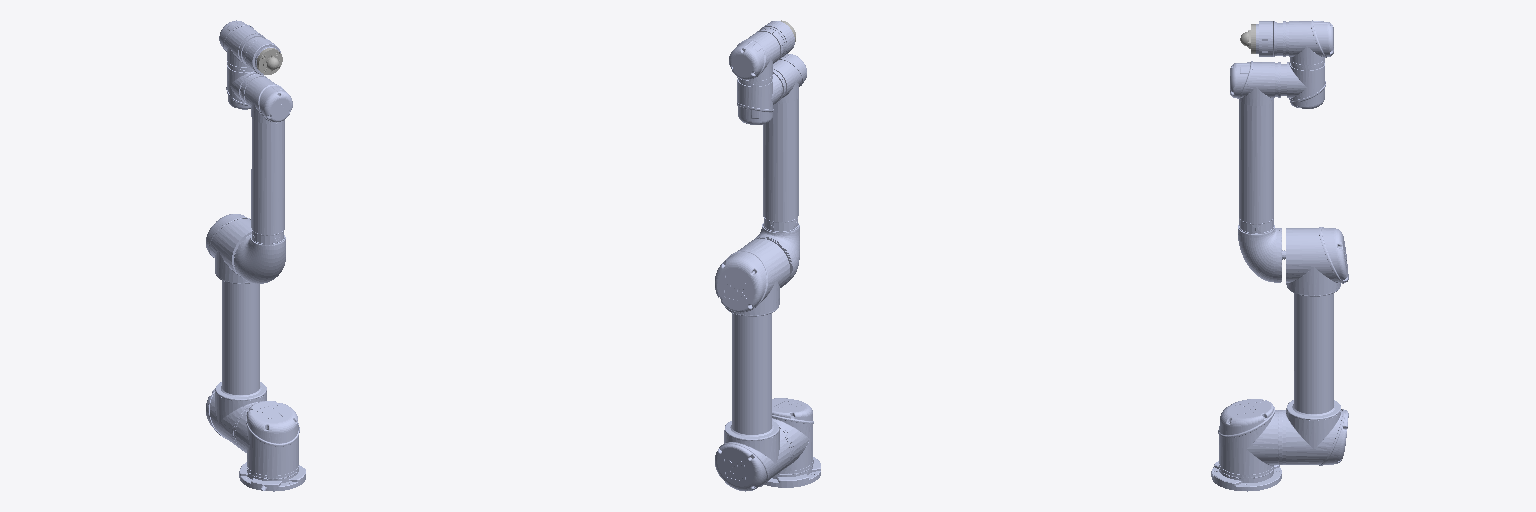
The robot description file, URDF, robot "UR5_simplified":
<?xml version="1.0" encoding="utf-8"?>
<!-- This URDF was automatically created by SolidWorks to URDF Exporter! Originally created by [author] ([email redacted]) 
     Commit Version: 1.6.0-4-g7f85cfe  Build Version: 1.6.7995.38578
     For more information, please see http://wiki.ros.org/sw_urdf_exporter -->
<robot
  name="UR5_simplified">
  <link
    name="base_link">
    <inertial>
      <origin
        xyz="-0.000420030422995675 0.0163366044723407 0.000420045041829593"
        rpy="0 0 0" />
      <mass
        value="0.44130548858899" />
      <inertia
        ixx="0.000536733963070829"
        ixy="1.52397192563187E-06"
        ixz="-1.75291479004569E-05"
        iyy="0.000965019557497327"
        iyz="-1.52398754952585E-06"
        izz="0.000536733421587594" />
    </inertial>
    <visual>
      <origin
        xyz="0 0 0"
        rpy="0 0 0" />
      <geometry>
        <mesh
          filename="package://UR5_simplified/meshes/base_link.STL" />
      </geometry>
      <material
        name="">
        <color
          rgba="0.792156862745098 0.819607843137255 0.933333333333333 1" />
      </material>
    </visual>
    <collision>
      <origin
        xyz="0 0 0"
        rpy="0 0 0" />
      <geometry>
        <mesh
          filename="package://UR5_simplified/meshes/base_link.STL" />
      </geometry>
    </collision>
  </link>
  <link
    name="j1">
    <inertial>
      <origin
        xyz="-0.058879461765672 0.0151336322048917 -5.24202044640188E-06"
        rpy="0 0 0" />
      <mass
        value="1.51495048391269" />
      <inertia
        ixx="0.00282994613844968"
        ixy="0.000324668777850971"
        ixz="-1.47797176832201E-07"
        iyy="0.00247570172636265"
        iyz="3.82021832349878E-07"
        izz="0.00257580968014944" />
    </inertial>
    <visual>
      <origin
        xyz="0 0 0"
        rpy="0 0 0" />
      <geometry>
        <mesh
          filename="package://UR5_simplified/meshes/j1.STL" />
      </geometry>
      <material
        name="">
        <color
          rgba="0.792156862745098 0.819607843137255 0.933333333333333 1" />
      </material>
    </visual>
    <collision>
      <origin
        xyz="0 0 0"
        rpy="0 0 0" />
      <geometry>
        <mesh
          filename="package://UR5_simplified/meshes/j1.STL" />
      </geometry>
    </collision>
  </link>
  <joint
    name="j1"
    type="revolute">
    <origin
      xyz="0 0 0.0313"
      rpy="0 1.5708 0" />
    <parent
      link="base_link" />
    <child
      link="j1" />
    <axis
      xyz="1 0 0" />
    <limit
      lower="-4.7124"
      upper="0"
      effort="150"
      velocity="150" />
  </joint>
  <link
    name="j2">
    <inertial>
      <origin
        xyz="0.0648361658314044 -0.209004061376109 -1.23155221259878E-08"
        rpy="0 0 0" />
      <mass
        value="4.66729876573488" />
      <inertia
        ixx="0.0219294842247083"
        ixy="-7.18981949137377E-09"
        ixz="2.09104575114148E-09"
        iyy="0.00644094865252764"
        iyz="-7.57334074251366E-07"
        izz="0.0213552546161582" />
    </inertial>
    <visual>
      <origin
        xyz="0 0 0"
        rpy="0 0 0" />
      <geometry>
        <mesh
          filename="package://UR5_simplified/meshes/j2.STL" />
      </geometry>
      <material
        name="">
        <color
          rgba="0.792156862745098 0.819607843137255 0.933333333333333 1" />
      </material>
    </visual>
    <collision>
      <origin
        xyz="0 0 0"
        rpy="0 0 0" />
      <geometry>
        <mesh
          filename="package://UR5_simplified/meshes/j2.STL" />
      </geometry>
    </collision>
  </link>
  <joint
    name="j2"
    type="revolute">
    <origin
      xyz="-0.0597 0.075399 0"
      rpy="-3.1416 0 1.5708" />
    <parent
      link="j1" />
    <child
      link="j2" />
    <axis
      xyz="1 0 0" />
    <limit
      lower="0"
      upper="1.5708"
      effort="150"
      velocity="150" />
  </joint>
  <link
    name="j3">
    <inertial>
      <origin
        xyz="-0.173826493031852 -0.0474263574060036 -4.95434820006725E-08"
        rpy="0 0 0" />
      <mass
        value="2.39901324441344" />
      <inertia
        ixx="0.00204229586440966"
        ixy="-0.000125752505407837"
        ixz="-1.20659842072695E-08"
        iyy="0.0115872131206061"
        iyz="1.20783785634617E-08"
        izz="0.0114707961305417" />
    </inertial>
    <visual>
      <origin
        xyz="0 0 0"
        rpy="0 0 0" />
      <geometry>
        <mesh
          filename="package://UR5_simplified/meshes/j3.STL" />
      </geometry>
      <material
        name="">
        <color
          rgba="0.792156862745098 0.819607843137255 0.933333333333333 1" />
      </material>
    </visual>
    <collision>
      <origin
        xyz="0 0 0"
        rpy="0 0 0" />
      <geometry>
        <mesh
          filename="package://UR5_simplified/meshes/j3.STL" />
      </geometry>
    </collision>
  </link>
  <joint
    name="j3"
    type="revolute">
    <origin
      xyz="0 -0.425 0"
      rpy="3.1416 0 1.5708" />
    <parent
      link="j2" />
    <child
      link="j3" />
    <axis
      xyz="0 1 0" />
    <limit
      lower="-2.0944"
      upper="2.0944"
      effort="150"
      velocity="150" />
  </joint>
  <link
    name="j4">
    <inertial>
      <origin
        xyz="0.00644919885722728 0.0377917982433393 6.42638685486703E-09"
        rpy="0 0 0" />
      <mass
        value="0.321808563847766" />
      <inertia
        ixx="0.000268719586442726"
        ixy="-2.98851509149925E-05"
        ixz="-1.8842313869565E-10"
        iyy="0.000235433301847422"
        iyz="1.84465229647951E-10"
        izz="0.000253503684854722" />
    </inertial>
    <visual>
      <origin
        xyz="0 0 0"
        rpy="0 0 0" />
      <geometry>
        <mesh
          filename="package://UR5_simplified/meshes/j4.STL" />
      </geometry>
      <material
        name="">
        <color
          rgba="0.792156862745098 0.819607843137255 0.933333333333333 1" />
      </material>
    </visual>
    <collision>
      <origin
        xyz="0 0 0"
        rpy="0 0 0" />
      <geometry>
        <mesh
          filename="package://UR5_simplified/meshes/j4.STL" />
      </geometry>
    </collision>
  </link>
  <joint
    name="j4"
    type="revolute">
    <origin
      xyz="-0.40787 0.0076669 0"
      rpy="-3.1416 0 -3.1416" />
    <parent
      link="j3" />
    <child
      link="j4" />
    <axis
      xyz="0 1 0" />
    <limit
      lower="-3.1416"
      upper="0"
      effort="150"
      velocity="150" />
  </joint>
  <link
    name="j5">
    <inertial>
      <origin
        xyz="0.00644922475929381 0.0377917860992273 5.99930906098294E-09"
        rpy="0 0 0" />
      <mass
        value="0.321808531310946" />
      <inertia
        ixx="0.000268719642713045"
        ixy="-2.98851315554222E-05"
        ixz="2.77236661426714E-10"
        iyy="0.000235433171783743"
        iyz="-5.05263744647266E-11"
        izz="0.000253503506613561" />
    </inertial>
    <visual>
      <origin
        xyz="0 0 0"
        rpy="0 0 0" />
      <geometry>
        <mesh
          filename="package://UR5_simplified/meshes/j5.STL" />
      </geometry>
      <material
        name="">
        <color
          rgba="0.792156862745098 0.819607843137255 0.933333333333333 1" />
      </material>
    </visual>
    <collision>
      <origin
        xyz="0 0 0"
        rpy="0 0 0" />
      <geometry>
        <mesh
          filename="package://UR5_simplified/meshes/j5.STL" />
      </geometry>
    </collision>
  </link>
  <joint
    name="j5"
    type="revolute">
    <origin
      xyz="0.050217 0.045249 0"
      rpy="0 0 -1.5708" />
    <parent
      link="j4" />
    <child
      link="j5" />
    <axis
      xyz="0 1 0" />
    <limit
      lower="-4.7124"
      upper="0"
      effort="150"
      velocity="150" />
  </joint>
  <link
    name="j6">
    <inertial>
      <origin
        xyz="-1.15735176997589E-09 0.0218984674733232 0.000143128299193512"
        rpy="0 0 0" />
      <mass
        value="0.164823391159791" />
      <inertia
        ixx="6.80617682267473E-05"
        ixy="9.37822822097515E-13"
        ixz="-7.21007655945049E-11"
        iyy="0.000116042608880082"
        iyz="-1.05593403960908E-07"
        izz="6.87583432276169E-05" />
    </inertial>
    <visual>
      <origin
        xyz="0 0 0"
        rpy="0 0 0" />
      <geometry>
        <mesh
          filename="package://UR5_simplified/meshes/j6.STL" />
      </geometry>
      <material
        name="">
        <color
          rgba="0.792156862745098 0.819607843137255 0.933333333333333 1" />
      </material>
    </visual>
    <collision>
      <origin
        xyz="0 0 0"
        rpy="0 0 0" />
      <geometry>
        <mesh
          filename="package://UR5_simplified/meshes/j6.STL" />
      </geometry>
    </collision>
  </link>
  <joint
    name="j6"
    type="revolute">
    <origin
      xyz="0.064597 0.045249 0"
      rpy="0 0 -1.5708" />
    <parent
      link="j5" />
    <child
      link="j6" />
    <axis
      xyz="0 1 0" />
    <limit
      lower="-4.7124"
      upper="0"
      effort="150"
      velocity="150" />
  </joint>
  <link
    name="end_effector">
    <inertial>
      <origin
        xyz="2.66197477882812E-05 0.0228582541719834 -7.99360577730113E-15"
        rpy="0 0 0" />
      <mass
        value="0.0387244499068886" />
      <inertia
        ixx="7.6803939719158E-06"
        ixy="-6.30801942990225E-09"
        ixz="3.81314548483494E-21"
        iyy="1.4002426572648E-05"
        iyz="-7.93172946267574E-21"
        izz="7.70235609549383E-06" />
    </inertial>
    <visual>
      <origin
        xyz="0 0 0"
        rpy="0 0 0" />
      <geometry>
        <mesh
          filename="package://UR5_simplified/meshes/end_effector.STL" />
      </geometry>
      <material
        name="">
        <color
          rgba="0.752941176470588 0.752941176470588 0.752941176470588 1" />
      </material>
    </visual>
    <collision>
      <origin
        xyz="0 0 0"
        rpy="0 0 0" />
      <geometry>
        <mesh
          filename="package://UR5_simplified/meshes/end_effector.STL" />
      </geometry>
    </collision>
  </link>
  <joint
    name="end_effector"
    type="fixed">
    <origin
      xyz="0 0.077173 0"
      rpy="-3.1416 -0.7854 0" />
    <parent
      link="j6" />
    <child
      link="end_effector" />
    <axis
      xyz="0 0 0" />
  </joint>
</robot>

--- Render facts (derived) ---
3 views of the same robot in one strip: view 1: azimuth 30°, elevation 25°; view 2: azimuth 150°, elevation 25°; view 3: azimuth 270°, elevation 25° (orthographic).
Robot: UR5_simplified — 8 links, 7 joints (6 revolute, 1 fixed); root link base_link; default pose: all joints at 0.
Links seen in each view (by area): view 1: j2, j3, j1, j5, base_link, j4, end_effector; view 2: j2, j3, j5, j1, j4, base_link; view 3: j2, j3, j1, j5, j4, base_link, j6.
Link boxes in pixels (x1,y1,x2,y2): j2: [206, 214, 266, 447]; j3: [234, 74, 292, 283]; j1: [234, 401, 299, 475]; j5: [219, 20, 265, 66]; base_link: [239, 462, 305, 491]; j4: [226, 61, 263, 109]; end_effector: [257, 48, 282, 74]; j2: [715, 239, 791, 491]; j3: [752, 54, 806, 284]; j5: [729, 28, 784, 80]; j1: [772, 398, 813, 470]; j4: [737, 75, 780, 124]; base_link: [765, 457, 820, 487]; j2: [1282, 227, 1348, 465]; j3: [1230, 61, 1286, 282]; j1: [1218, 399, 1281, 474]; j5: [1277, 20, 1333, 64]; j4: [1287, 60, 1325, 108]; base_link: [1211, 461, 1281, 491]; j6: [1256, 21, 1276, 56].
Bounding box of the posed robot: 0.1489 × 0.2897 × 1.06 m (x, y, z).
Meshes: 8 distinct files referenced, 8 mesh visuals loaded (8 binary STL).